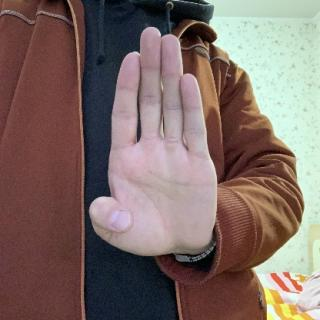KAAF: (82, 23, 222, 272)
